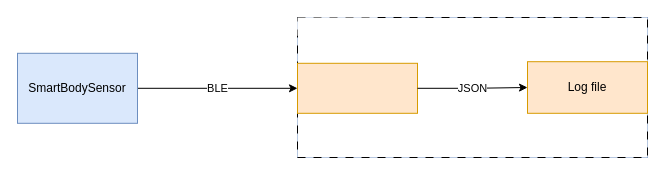
This 665x175 diagram has some shape labels left out. Each missing label, with the centre of its shape:
App: [357,87]
Smartphone: [337,26]
